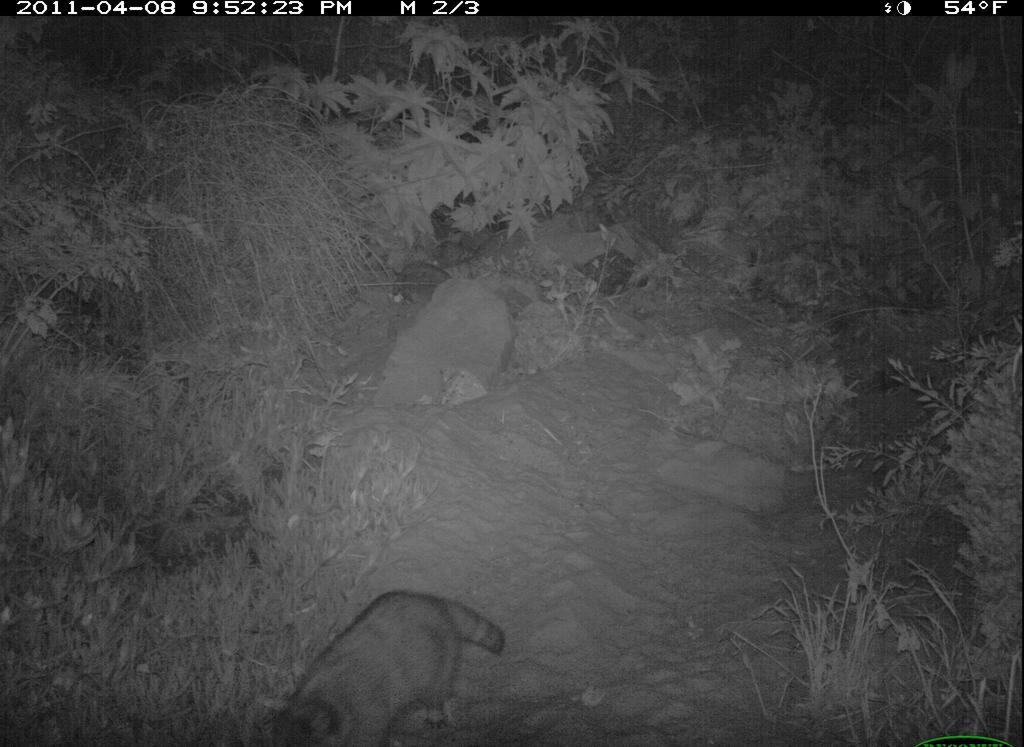raccoon: (266, 581, 529, 747)
